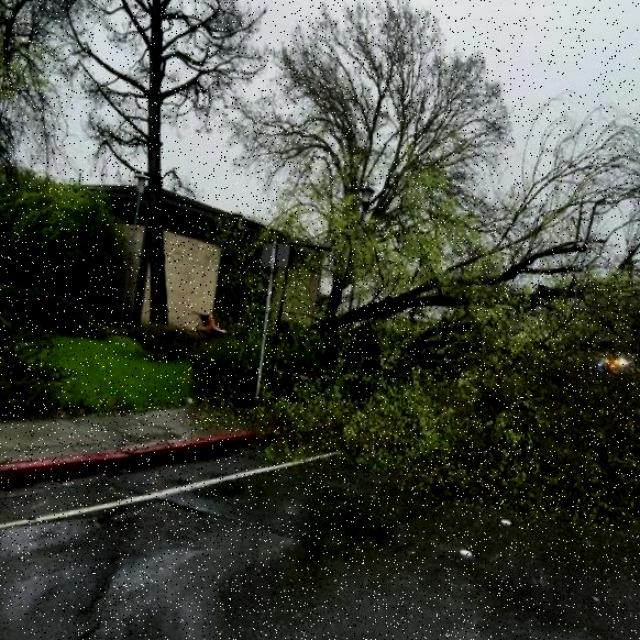fallen_object: (282, 193, 640, 480)
